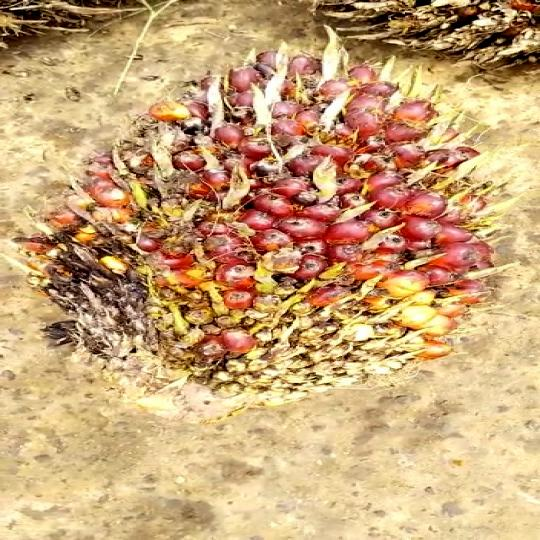masak: (23, 37, 502, 402)
